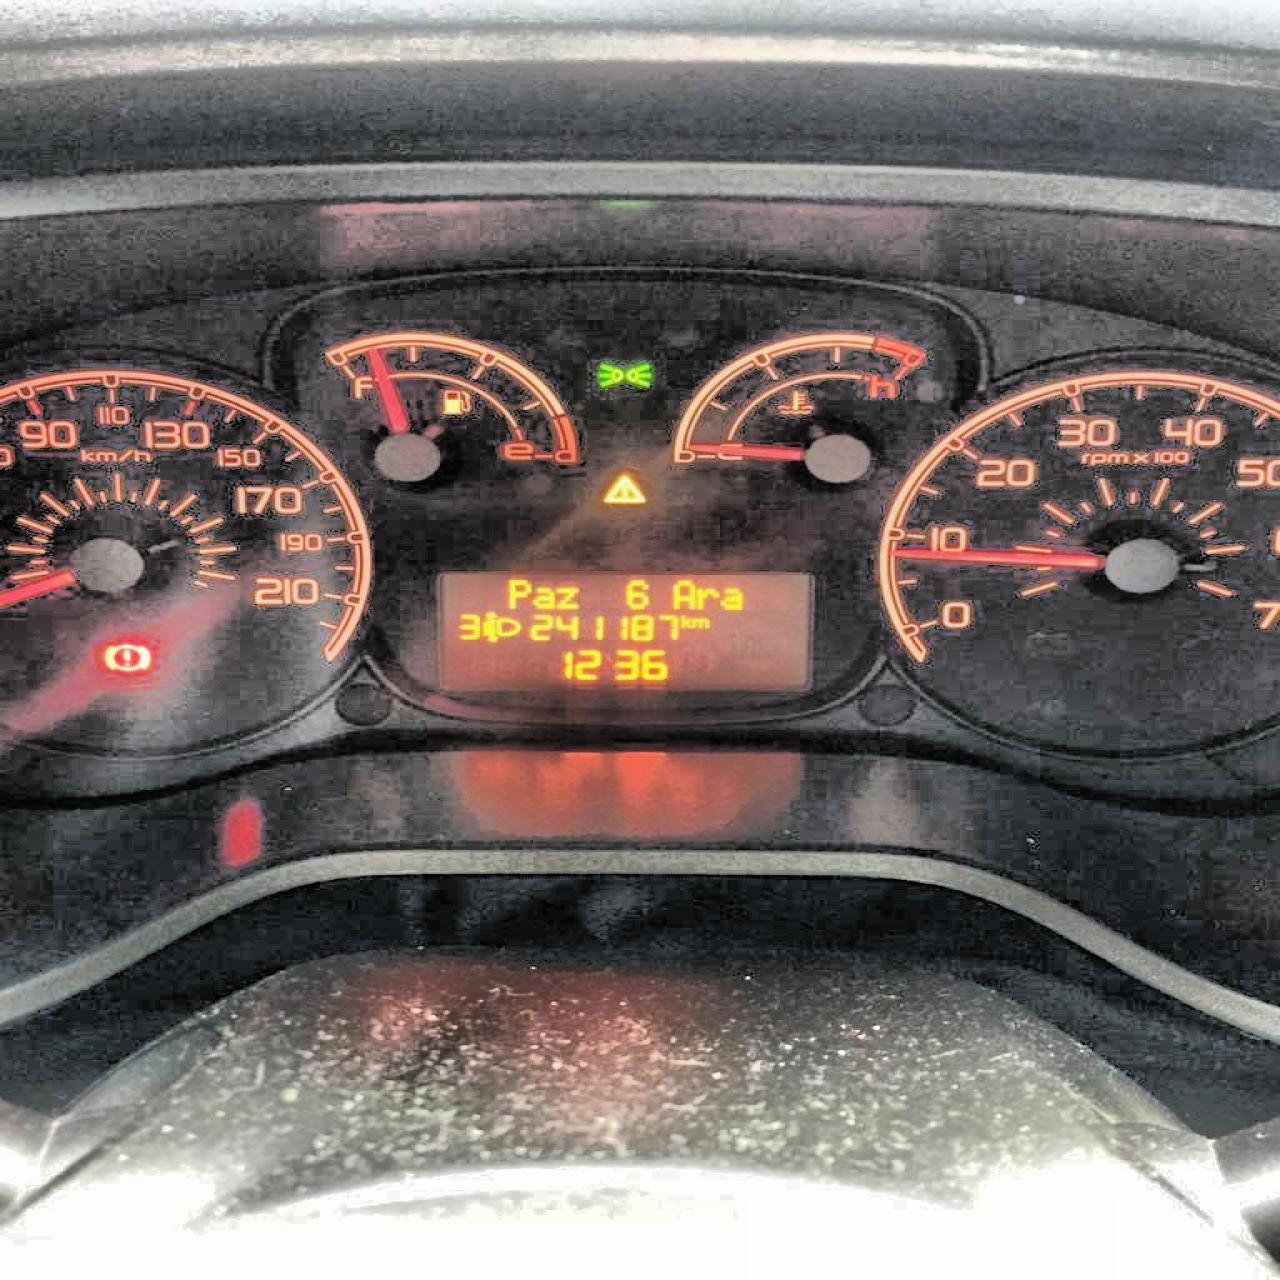1: (588, 613, 607, 641), (614, 614, 628, 641), (560, 649, 572, 680)
2: (573, 648, 600, 680), (526, 613, 551, 641)
3: (610, 647, 639, 681), (457, 611, 481, 641)
4: (552, 612, 580, 640)
6: (621, 578, 651, 611), (640, 648, 668, 680)
7: (655, 611, 679, 641)
8: (628, 613, 655, 641)
X: (668, 578, 694, 612), (505, 576, 530, 610), (694, 584, 719, 611), (553, 585, 580, 610), (719, 586, 743, 612), (530, 585, 553, 610), (690, 615, 710, 629), (679, 613, 689, 628)
odometer: (434, 566, 818, 694)
